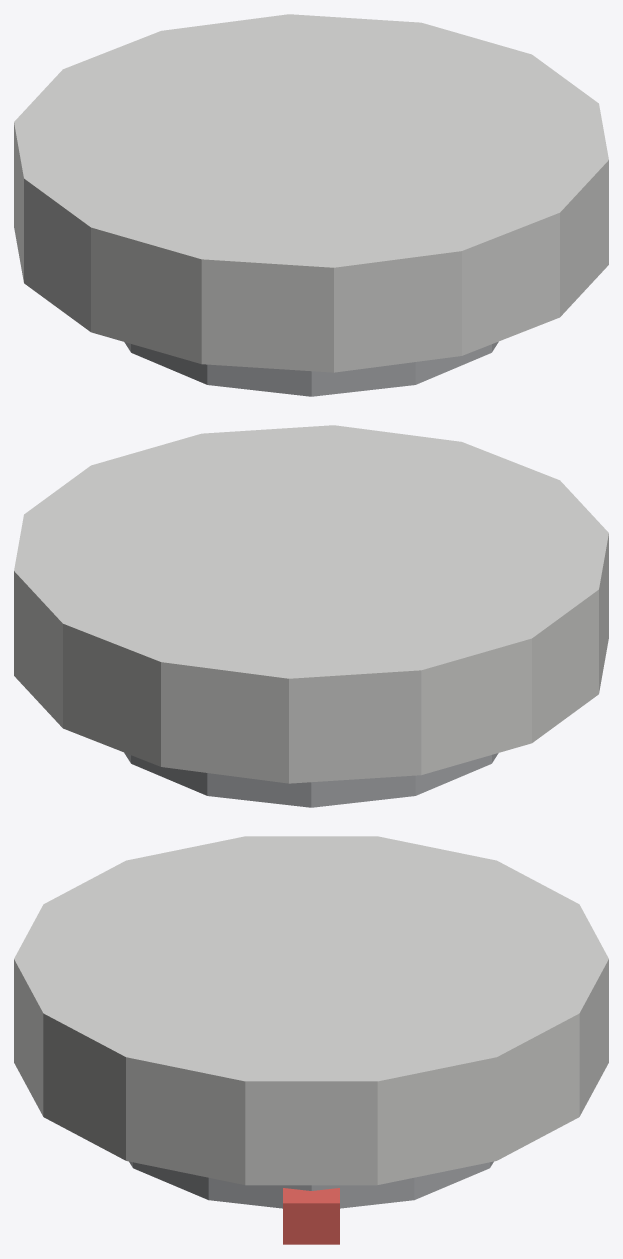
The model's file is smoke_alarm.glb.
3 renders of one model, top to bottom at view 1: azimuth 30°, elevation 25°; view 2: azimuth 150°, elevation 25°; view 3: azimuth 270°, elevation 25°, orthographic.
Visible parts, largest first — view 1: smoke_alarm; view 2: smoke_alarm; view 3: smoke_alarm.
Boxes of the visible parts, <box> form: smoke_alarm: <box>14,14,608,396</box>; smoke_alarm: <box>14,425,608,807</box>; smoke_alarm: <box>14,836,608,1244</box>.
Size of the model in its own units: 0.2535 by 0.09 by 0.26.
